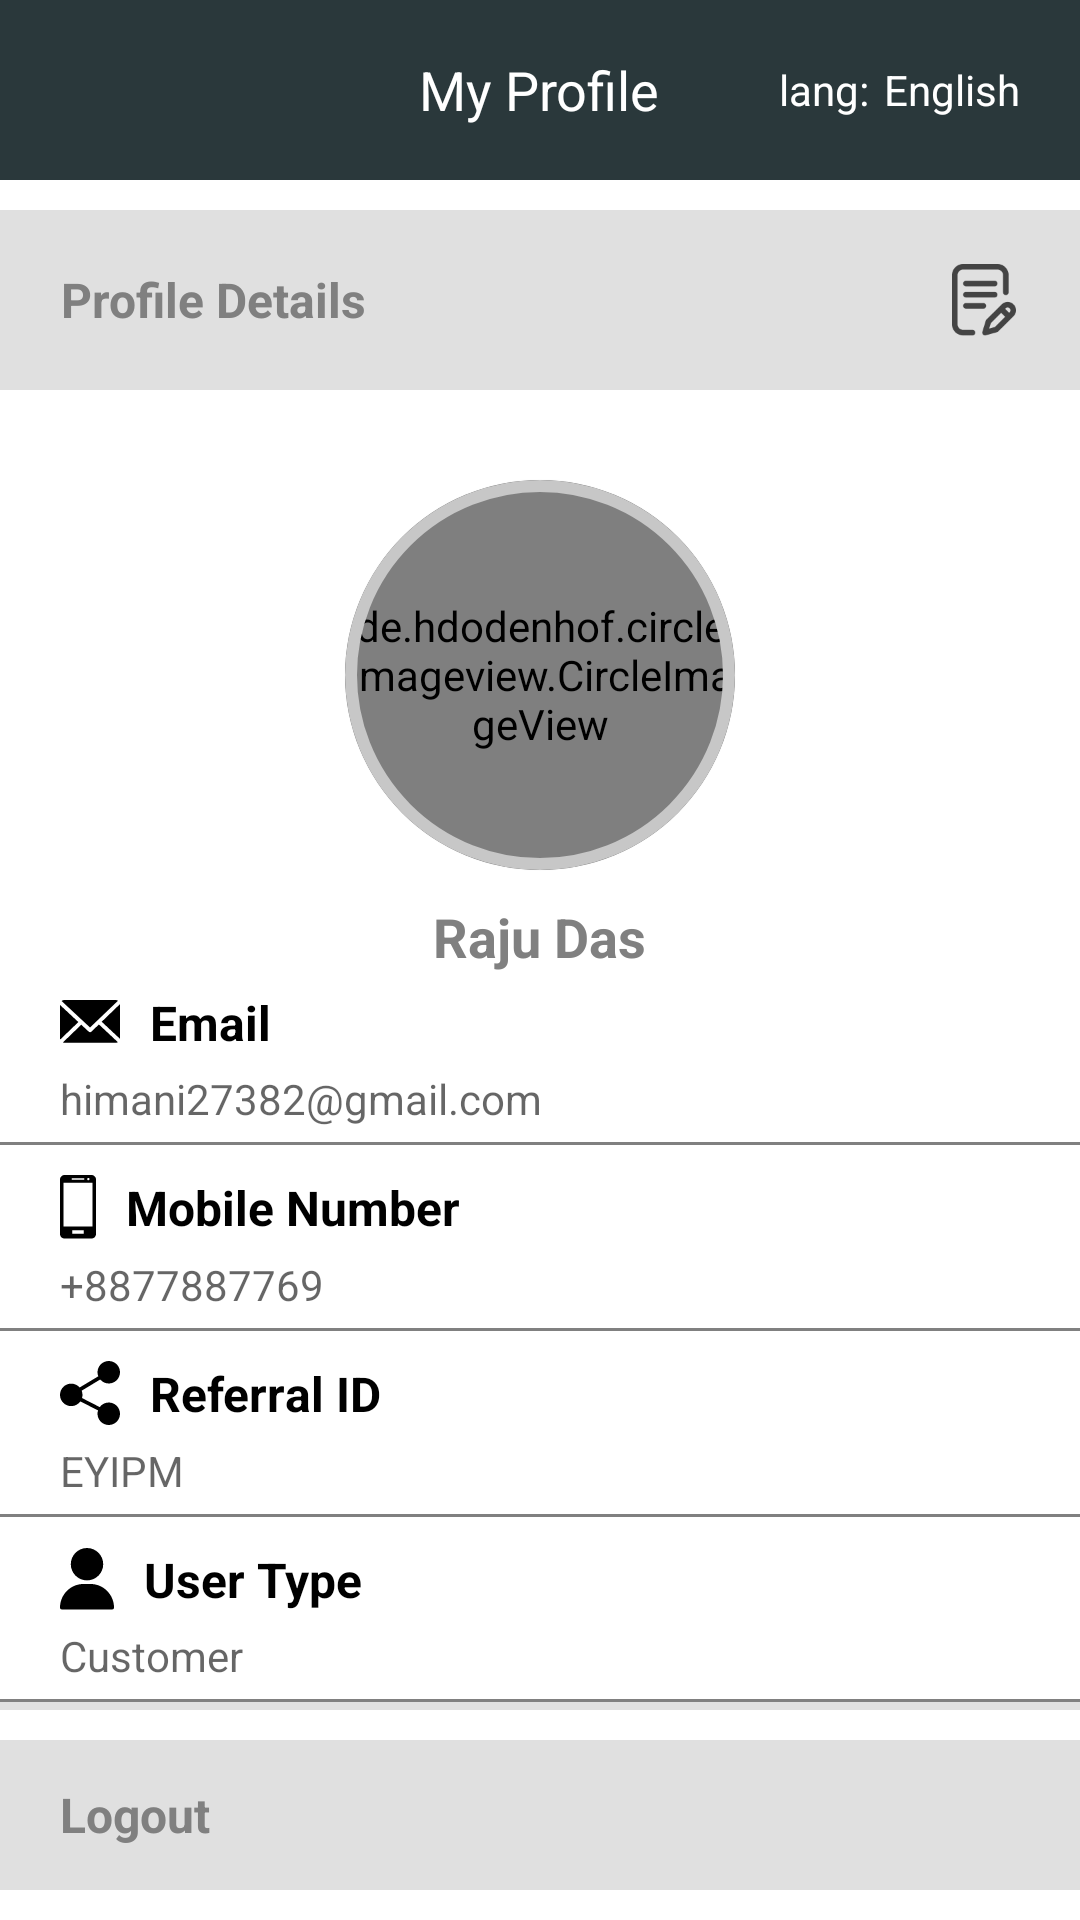

Icons on this 1080×1920 Android screen, each with its box as {"left": x1, "top": y1, "right": x2, "bottom": y2}:
notes: {"left": 952, "top": 264, "right": 1016, "bottom": 336}
